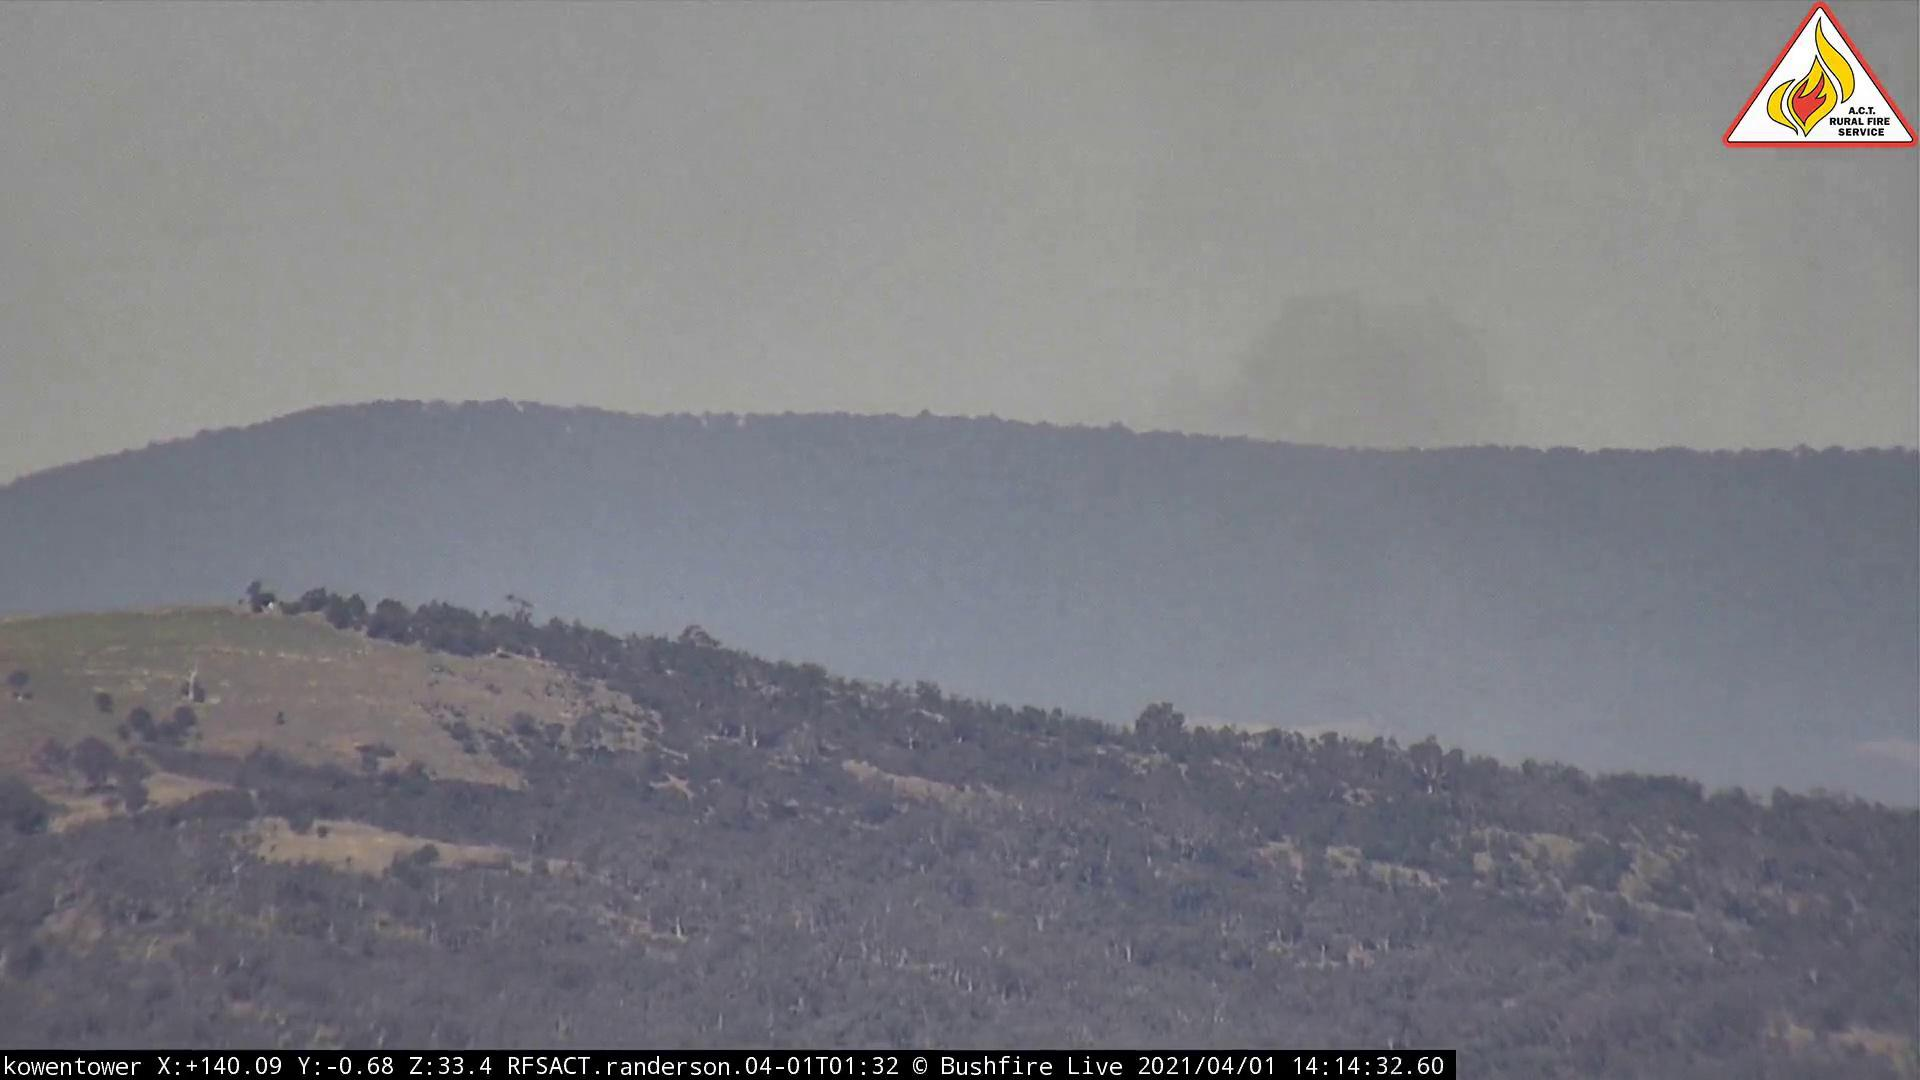instance_salient_object: (1072, 229, 1774, 793)
